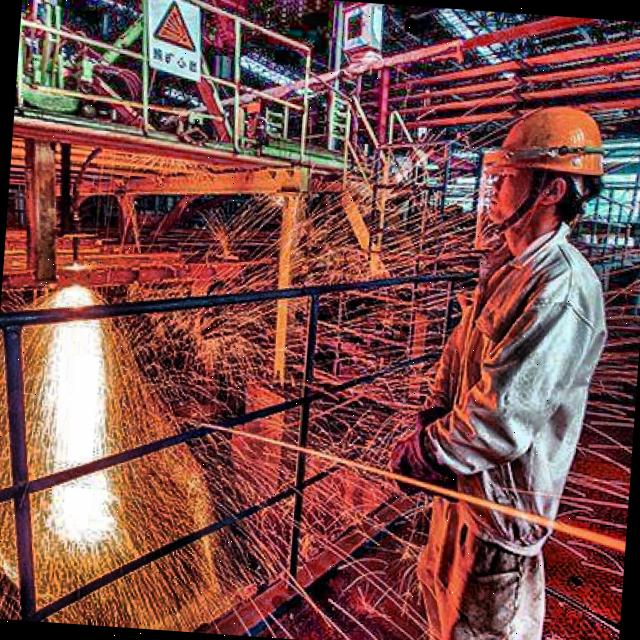helmet: (479, 94, 618, 237)
